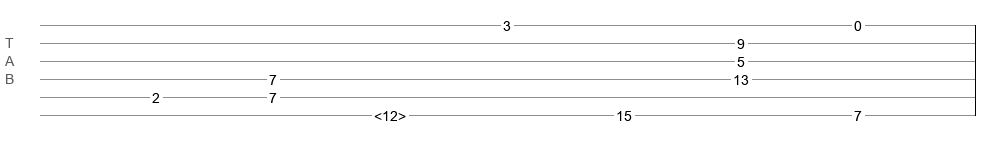0: (854, 18, 862, 28)
13: (733, 72, 749, 82)
15: (616, 108, 632, 118)
2: (152, 90, 160, 100)
3: (503, 18, 511, 28)
5: (737, 54, 745, 64)
7: (269, 90, 277, 100), (269, 72, 277, 82), (854, 108, 862, 118)
9: (737, 36, 745, 46)
harmonic: (374, 108, 406, 118)
